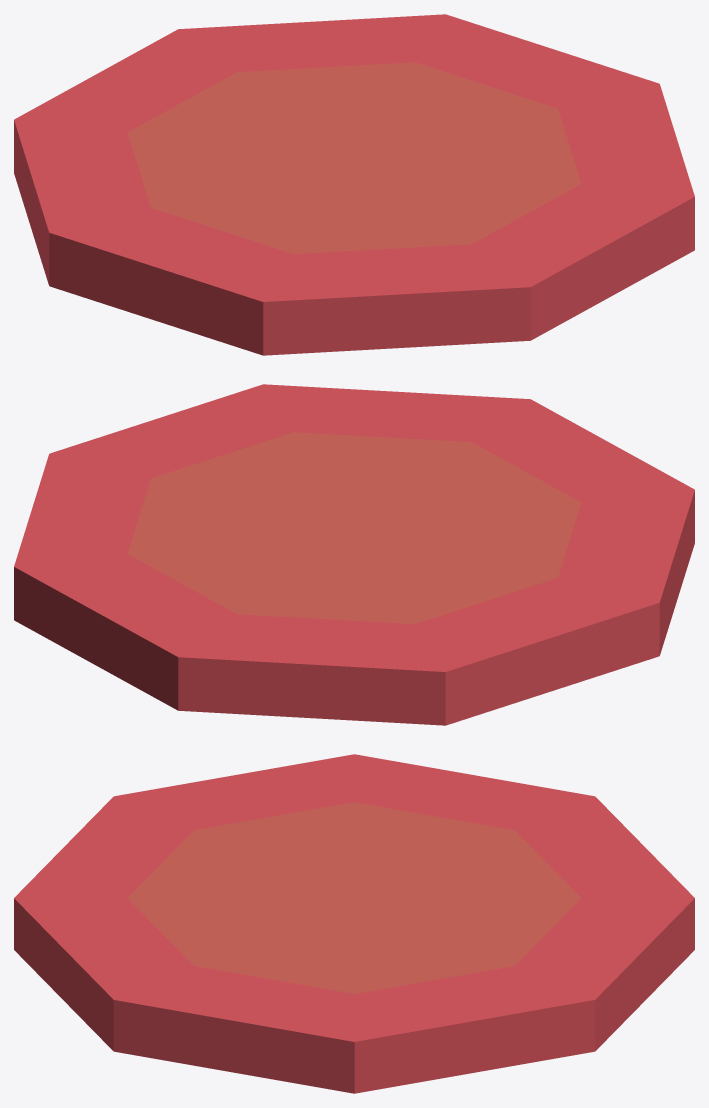
Rendered from Rajce.fbx.
3 views of the same model, one above another, from view 1: azimuth 30°, elevation 25°; view 2: azimuth 150°, elevation 25°; view 3: azimuth 270°, elevation 25° (orthographic). The views are drawn at different scales.
Visible parts, largest first — view 1: rajce; view 2: rajce; view 3: rajce.
Boxes of the visible parts, x1,y1,x2,y2 form: rajce: [14, 14, 694, 355]; rajce: [14, 384, 694, 725]; rajce: [14, 754, 694, 1093].
Size of the model in its own units: 1.17 by 0.0977 by 1.17.
